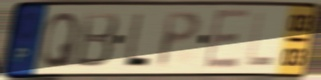B: (72, 10, 121, 70)
E: (202, 7, 253, 72)
L: (121, 11, 153, 70), (244, 11, 276, 69)
P: (155, 9, 203, 71)
Q: (39, 10, 82, 70)
